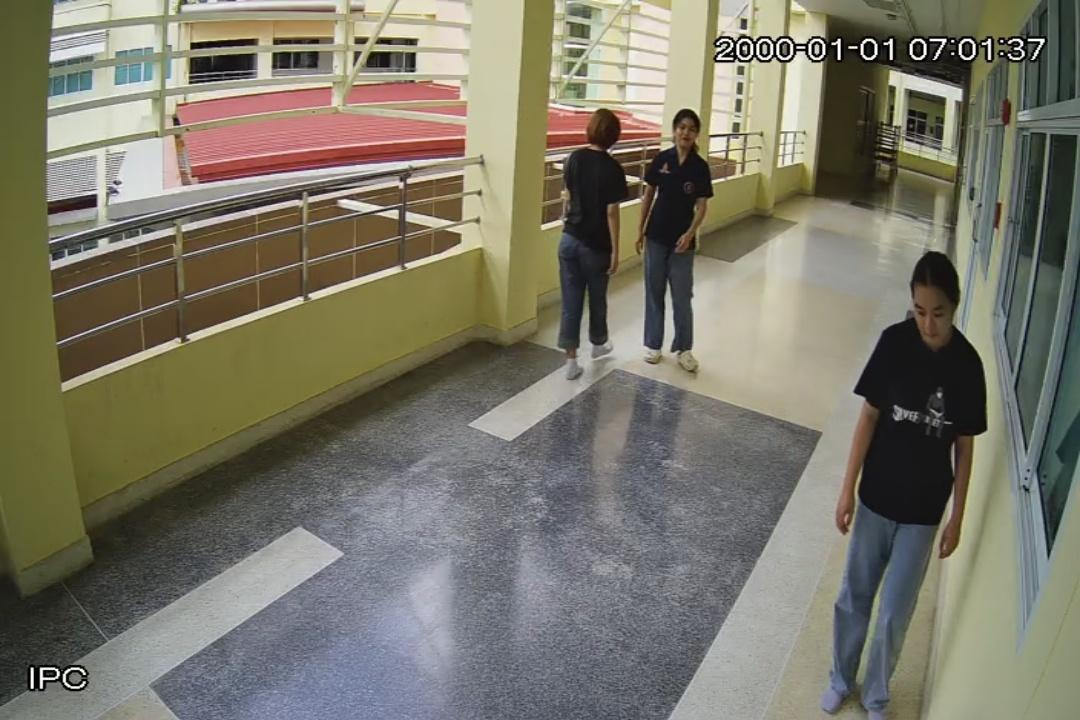normal: (802, 246, 996, 720), (636, 106, 722, 376), (556, 102, 626, 384)
